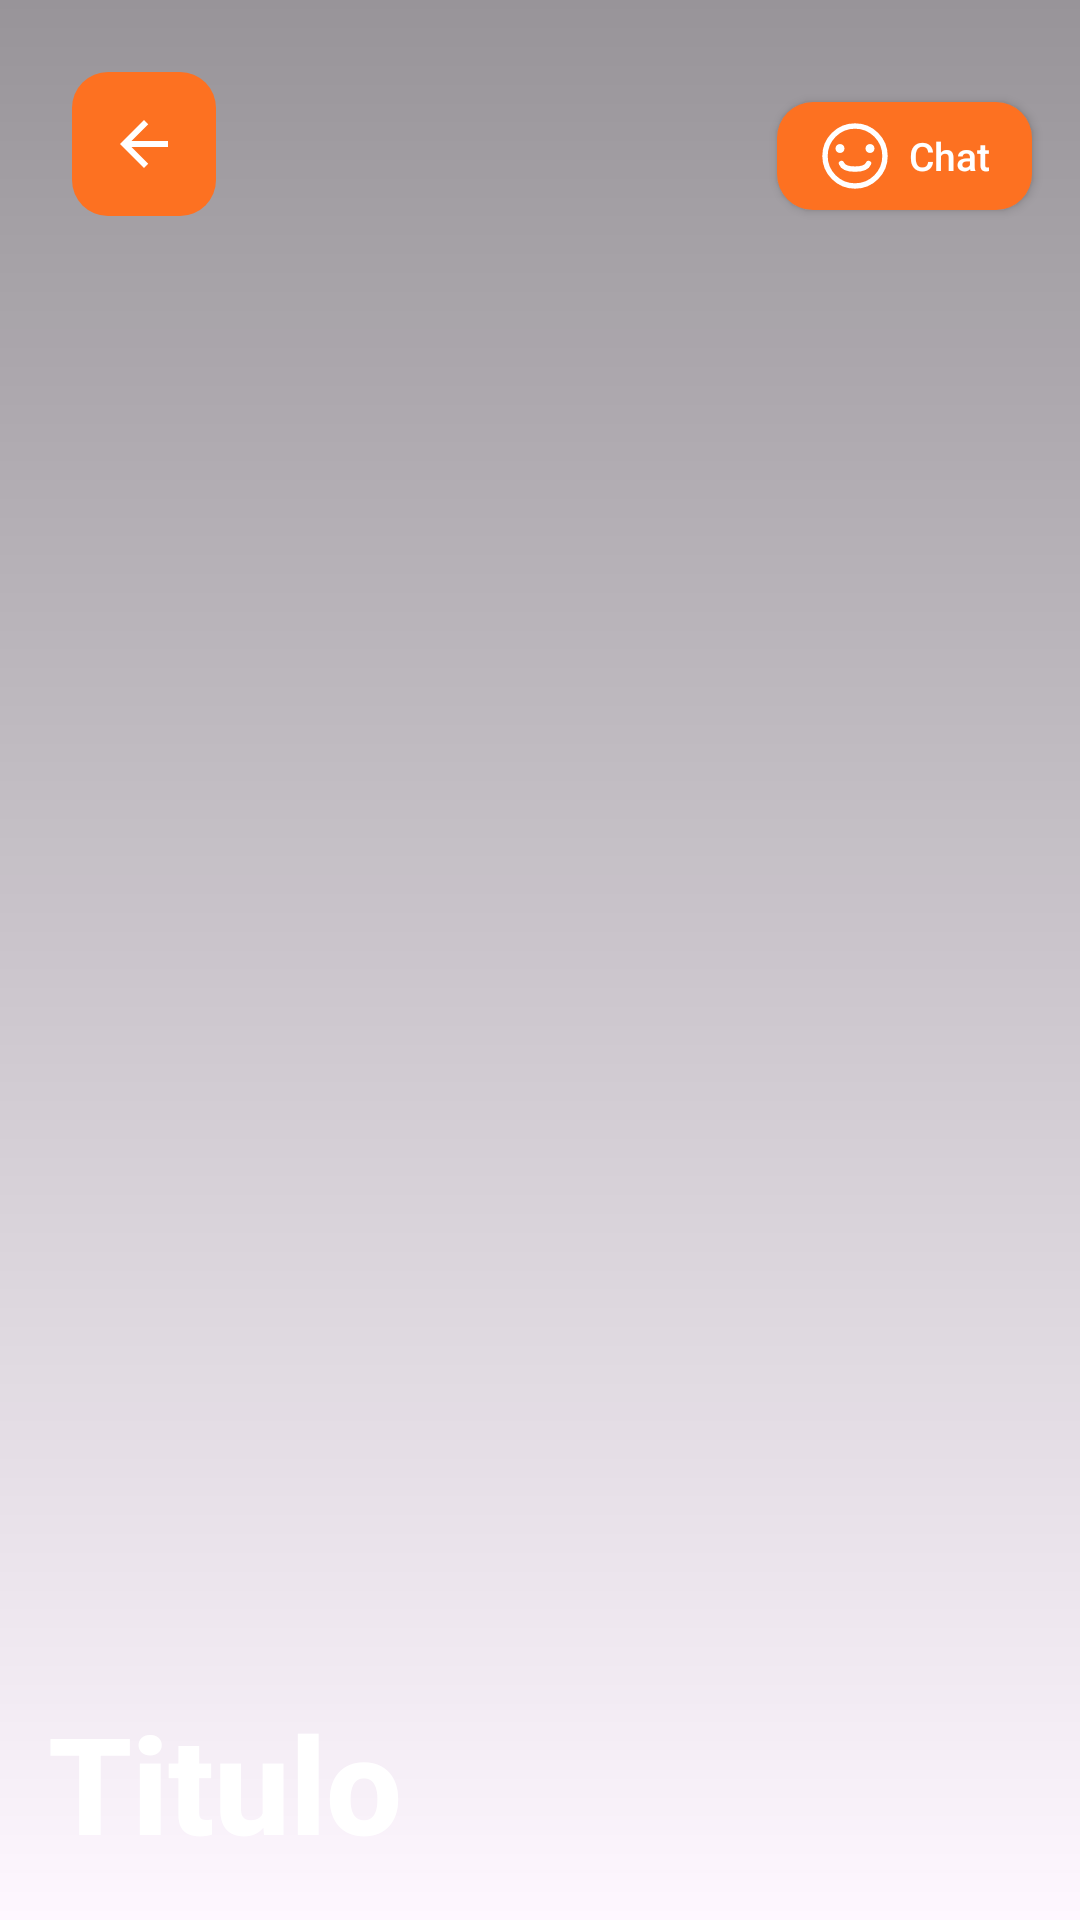

Named icons in this screenshot (1080x1920) and their centers, [x,y]:
Atras: [144,144]
